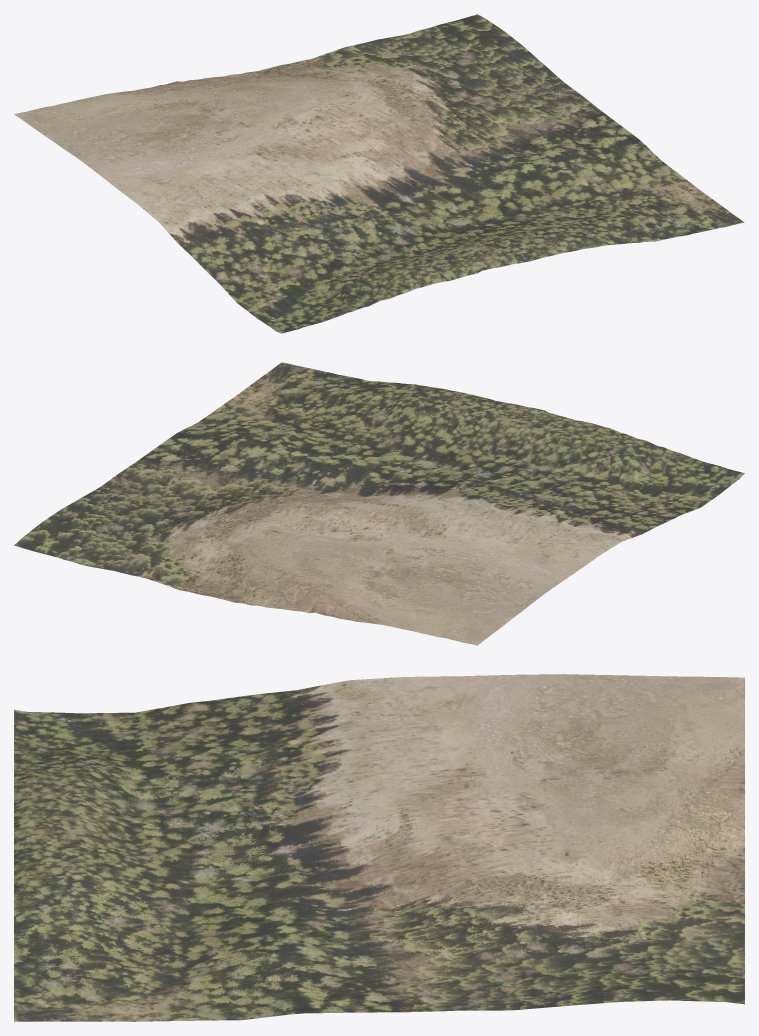
File: CM_Terrain_24493735_6814469.fbx
3 renders of one model, top to bottom at view 1: azimuth 30°, elevation 25°; view 2: azimuth 150°, elevation 25°; view 3: azimuth 270°, elevation 25°, orthographic. The views are drawn at different scales.
Parts seen in each view (by area): view 1: CM_Terrain_24493735_6814469_LOD0; view 2: CM_Terrain_24493735_6814469_LOD0; view 3: CM_Terrain_24493735_6814469_LOD0.
Boxes of the visible parts, x1,y1,x2,y2 form: CM_Terrain_24493735_6814469_LOD0: (14,14,744,333); CM_Terrain_24493735_6814469_LOD0: (14,362,744,645); CM_Terrain_24493735_6814469_LOD0: (14,674,744,1021).
Size of what is drawn, in the model's own units: 205 by 12.87 by 205.
